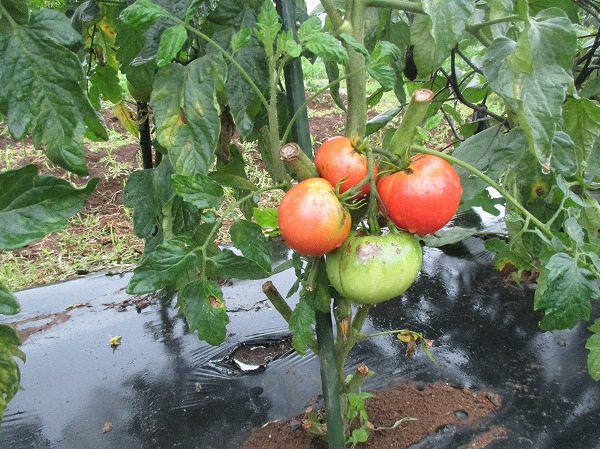stems: (334, 176, 369, 204), (374, 145, 411, 170), (366, 195, 381, 238), (350, 137, 369, 153)
tomato: (324, 228, 424, 303), (374, 152, 463, 235), (278, 178, 352, 255), (313, 135, 381, 202)
